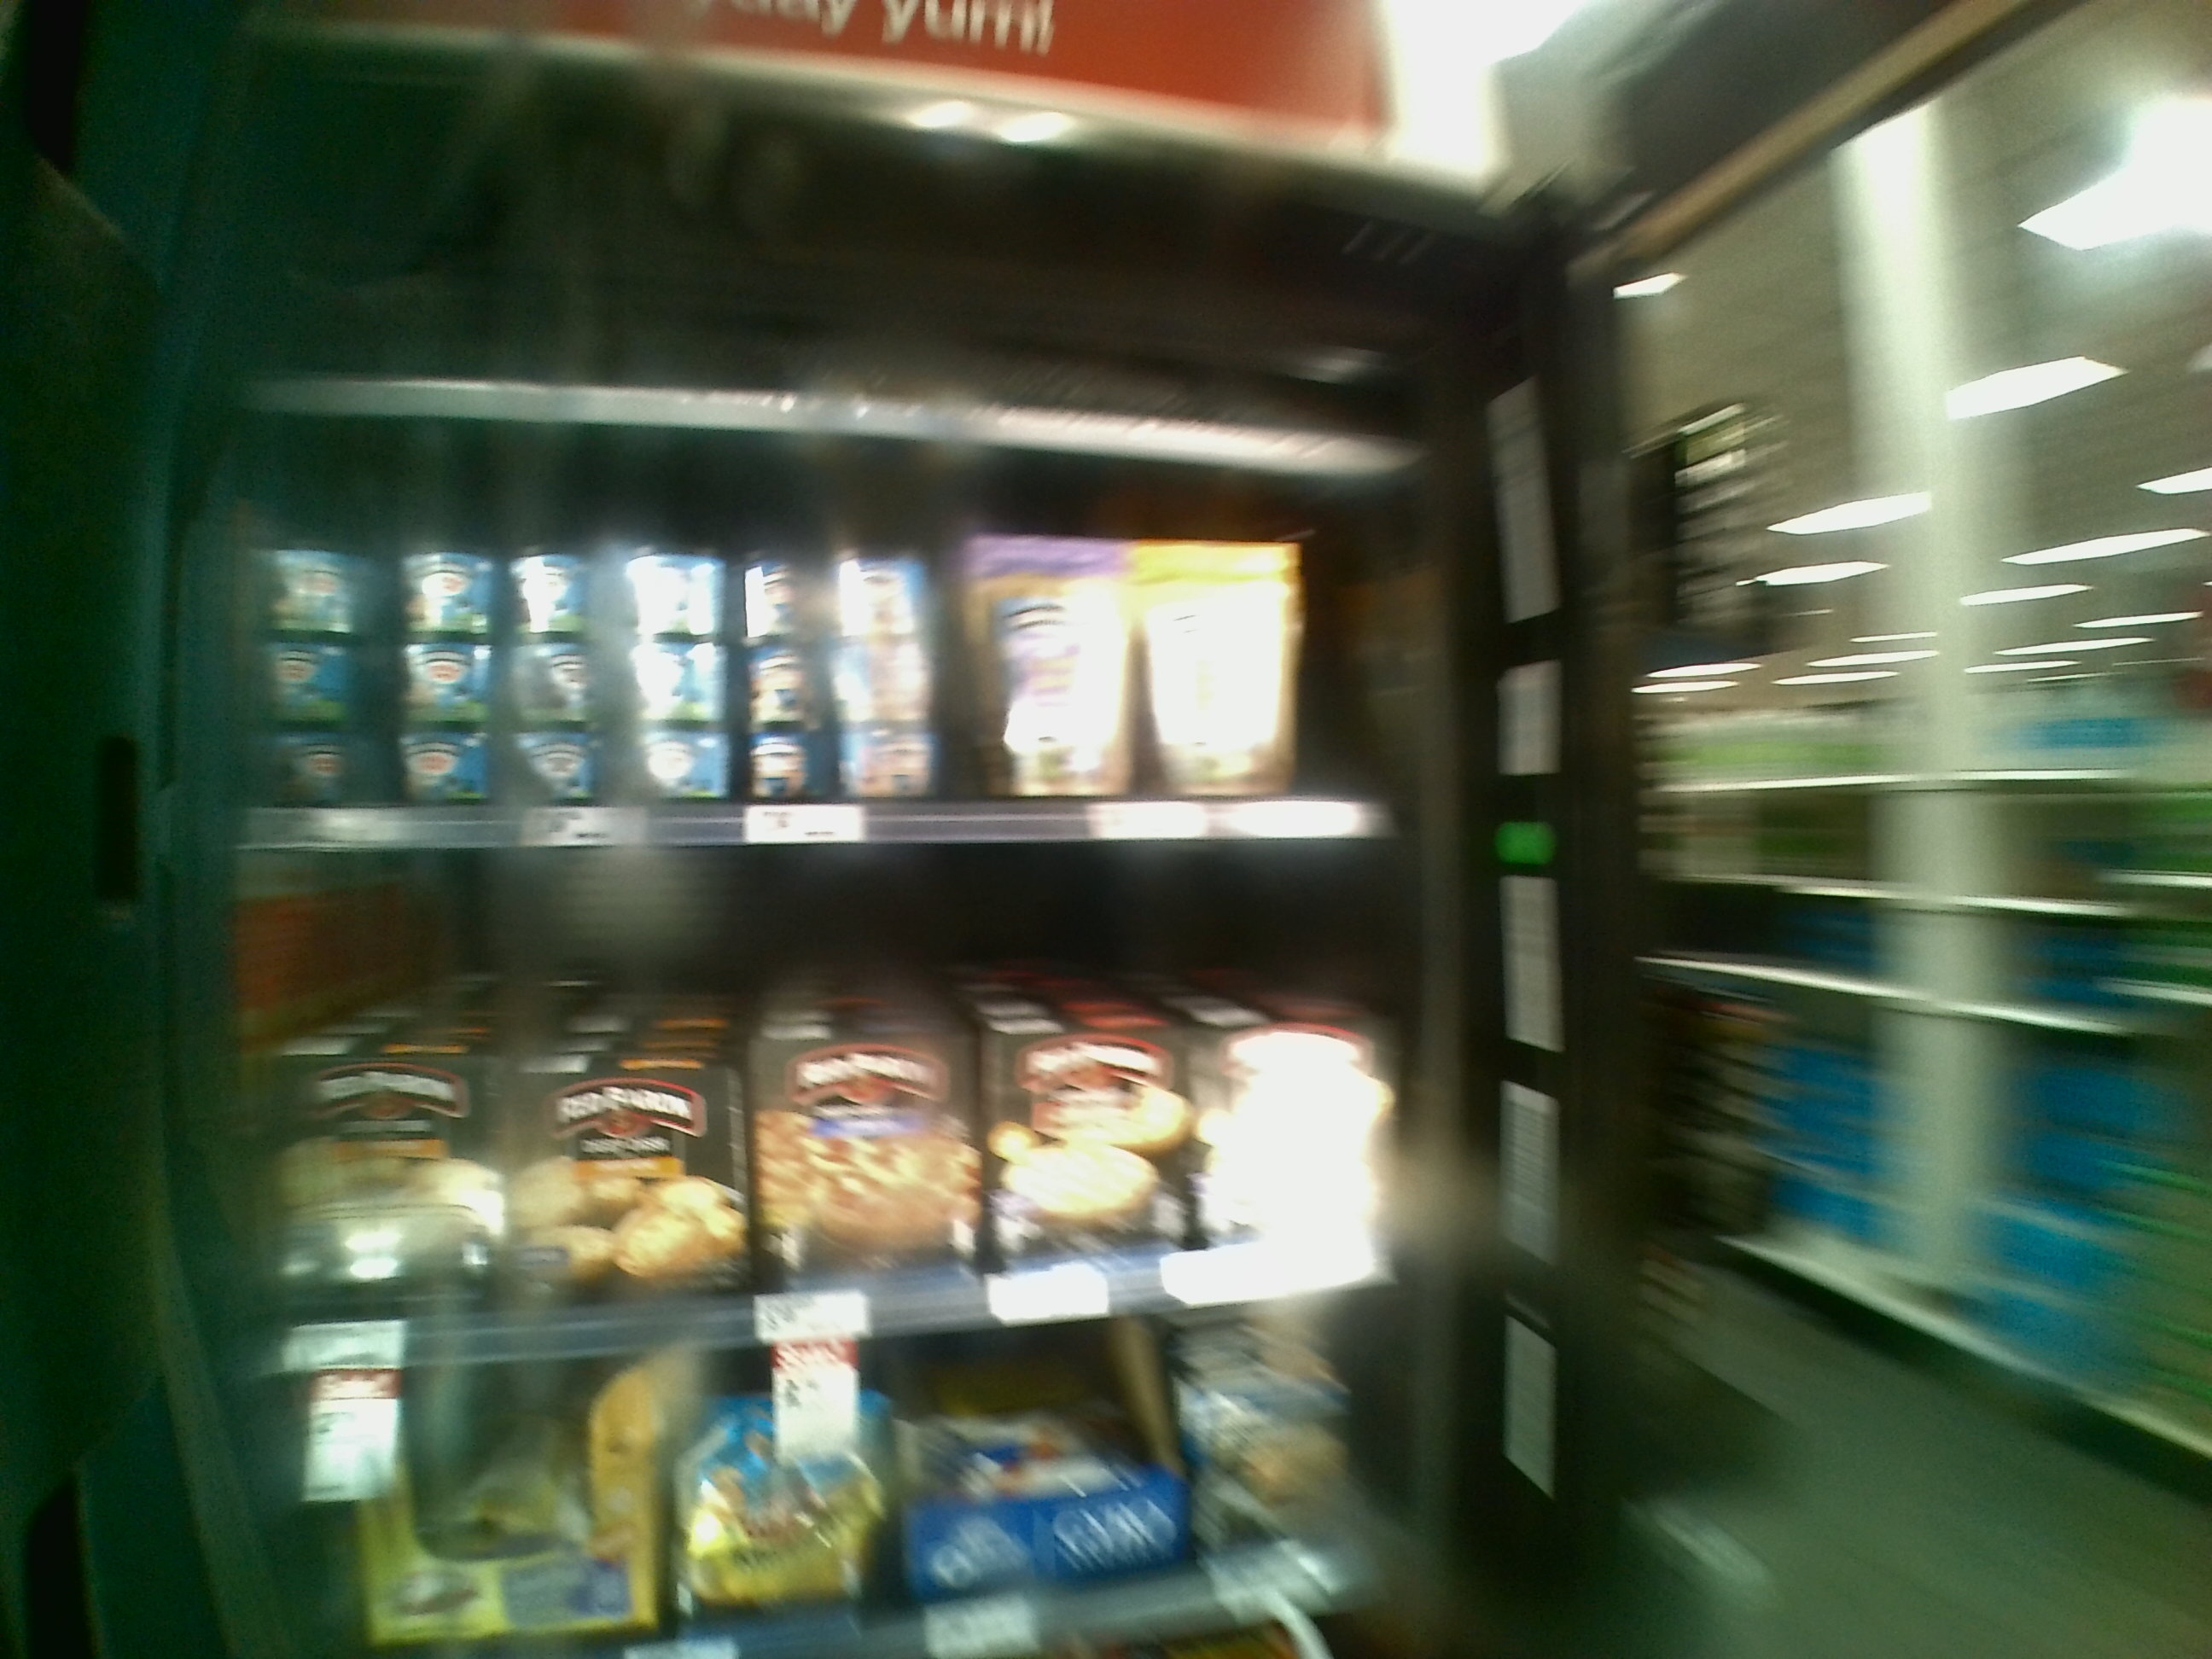shelf: (239, 854, 1371, 1349), (226, 420, 1400, 849)
